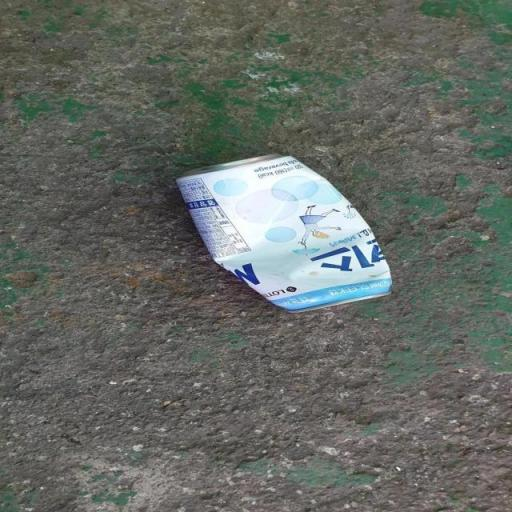metal: (168, 148, 399, 336)
